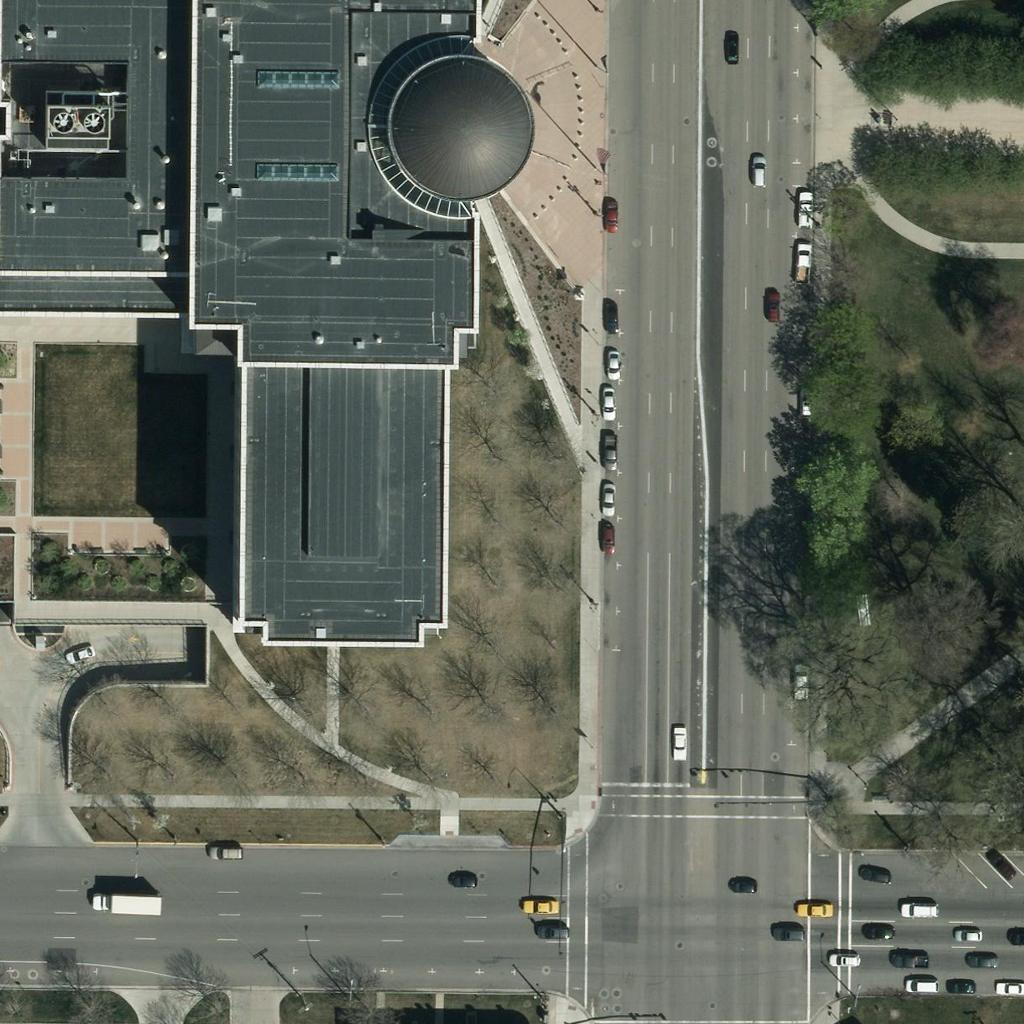car: (716, 30, 750, 64), (740, 153, 774, 187), (787, 188, 821, 222), (594, 197, 628, 231), (786, 238, 820, 272), (756, 291, 790, 325), (593, 296, 627, 330), (595, 345, 629, 379), (590, 383, 624, 417), (789, 387, 823, 421), (593, 437, 627, 471), (591, 481, 625, 515), (589, 519, 623, 553), (62, 637, 96, 671), (784, 664, 818, 698), (661, 724, 695, 758), (209, 834, 243, 868), (983, 846, 1017, 880), (859, 858, 893, 892), (444, 861, 478, 895), (724, 868, 758, 902), (526, 889, 560, 923), (797, 891, 831, 925), (906, 894, 940, 928), (539, 915, 573, 949), (773, 915, 807, 949), (862, 915, 896, 949), (955, 918, 989, 952), (891, 942, 925, 976), (966, 942, 1000, 976), (831, 943, 865, 977), (904, 969, 938, 1003), (943, 969, 977, 1003), (994, 970, 1024, 1004)
